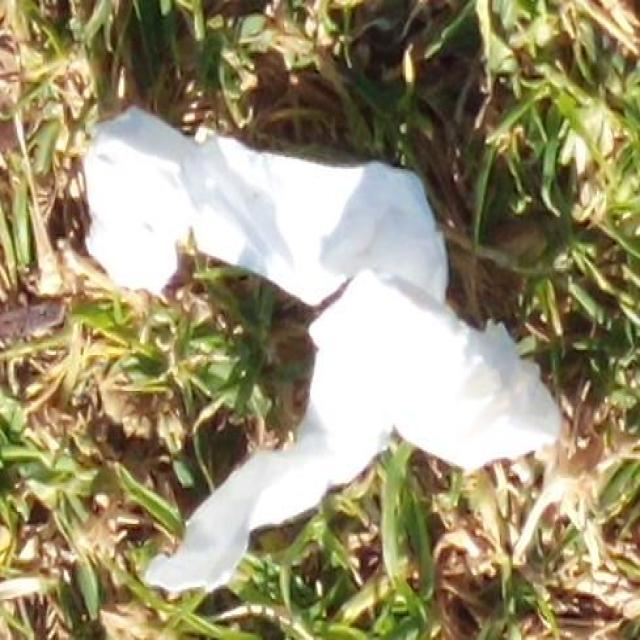litter: (84, 106, 558, 589)
